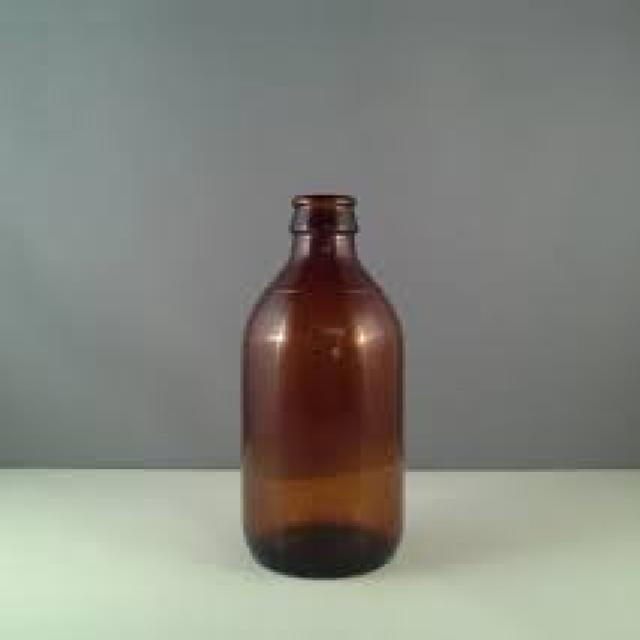glass: (241, 193, 400, 578)
